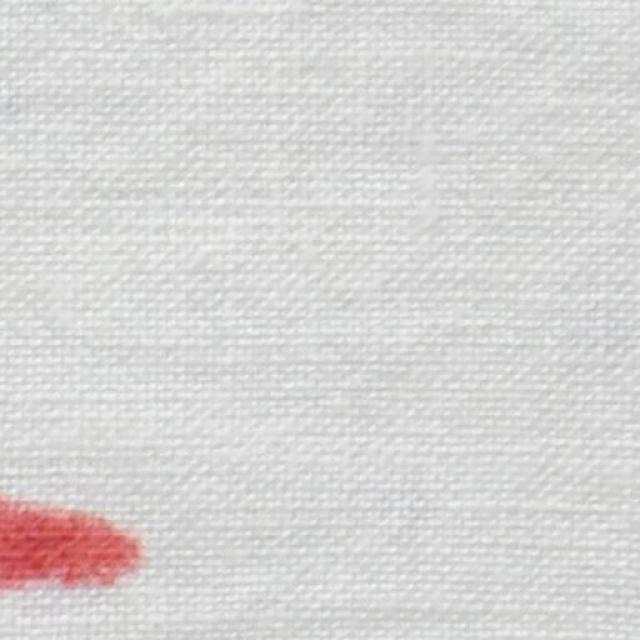Stain: (0, 498, 140, 589)
